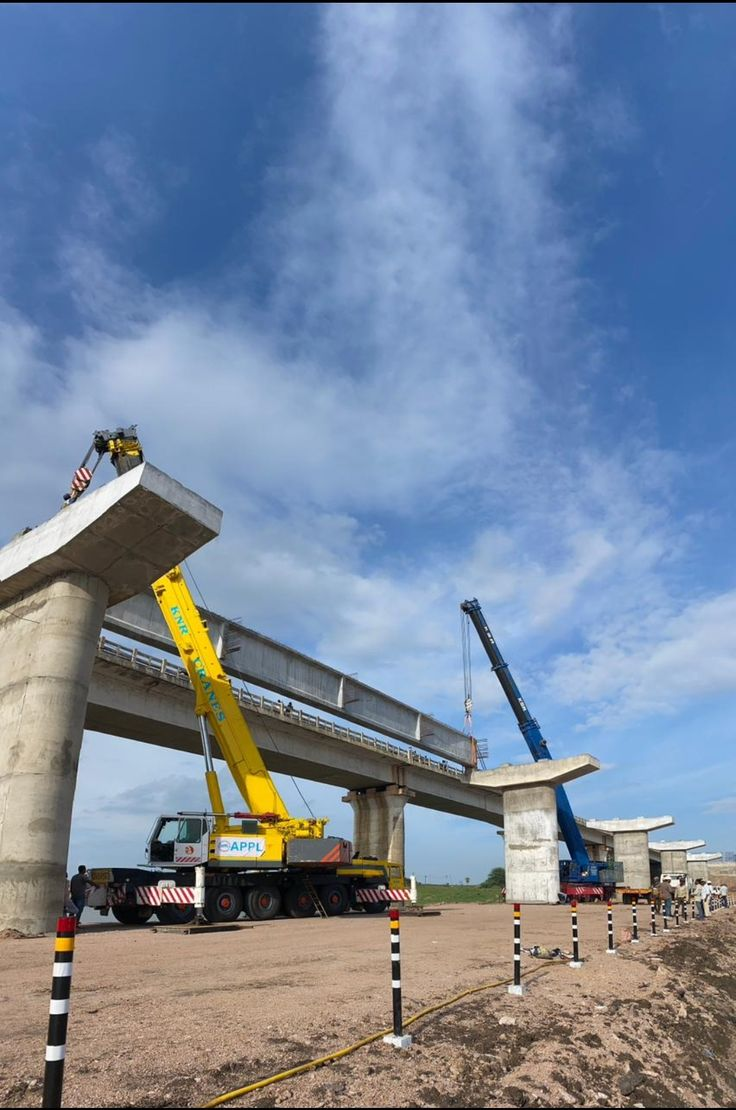crane: (48, 371, 401, 949), (435, 599, 678, 965)
